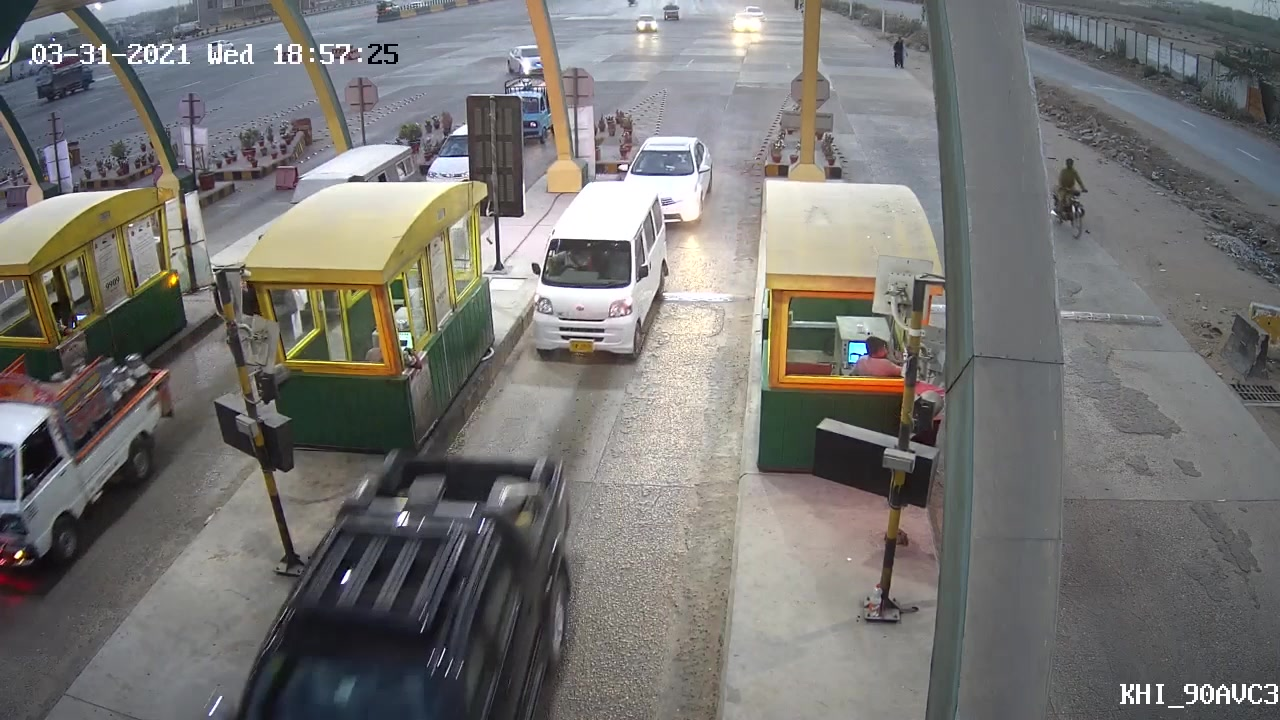F1: (522, 179, 677, 370)
